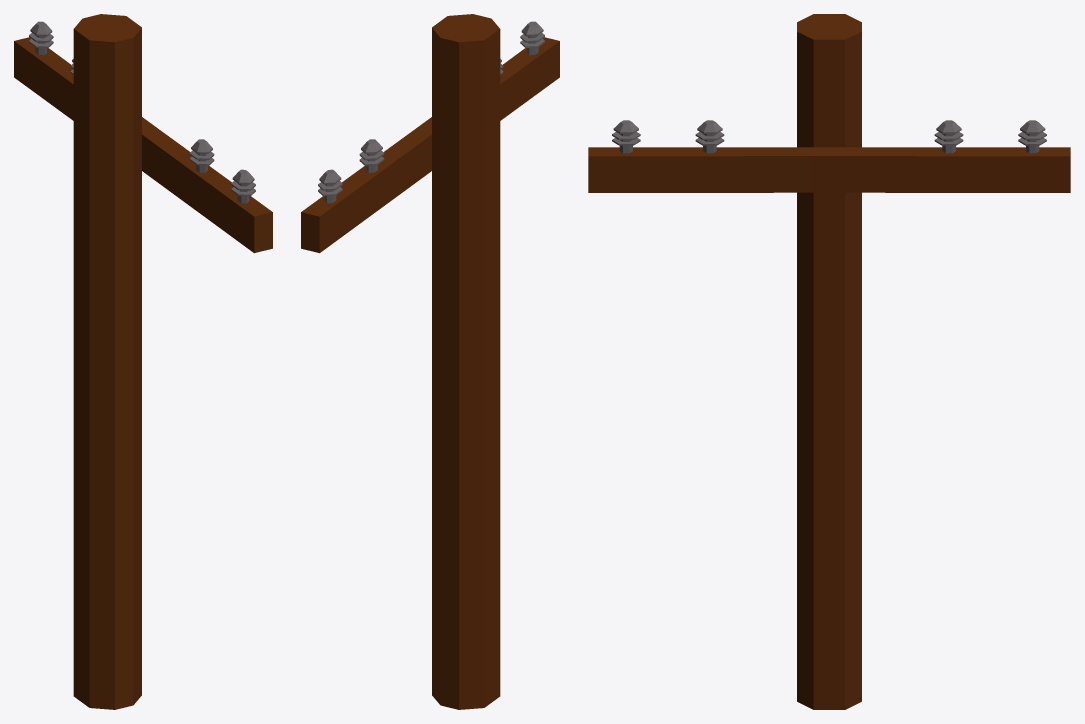
Rendered from electpole.glb.
The picture shows the model from 3 angles, left to right: view 1: azimuth 30°, elevation 25°; view 2: azimuth 150°, elevation 25°; view 3: azimuth 270°, elevation 25°; orthographic projection.
Visible parts, largest first — view 1: pole, pors; view 2: pole, pors; view 3: pole, pors.
Boxes of the visible parts, x1,y1,x2,y2 form: pole: (14,14,272,709); pors: (29,21,255,203); pole: (301,14,559,709); pors: (318,21,544,203); pole: (588,14,1070,709); pors: (612,120,1046,153).
Bounding box in the file's own units: 0.617 × 5.53 × 3.61.
